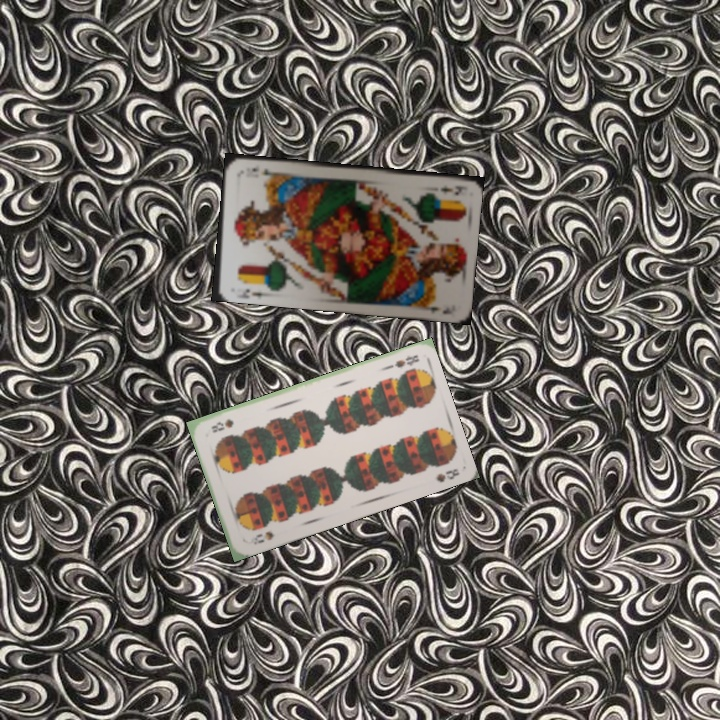EK: (233, 285, 268, 300), (436, 181, 467, 197)
S8: (382, 351, 422, 372), (243, 527, 276, 547)
